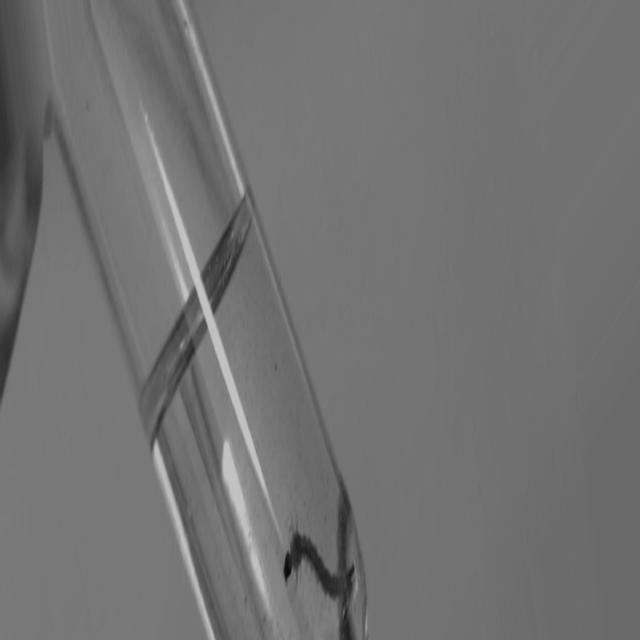larvas: (267, 515, 362, 632)
